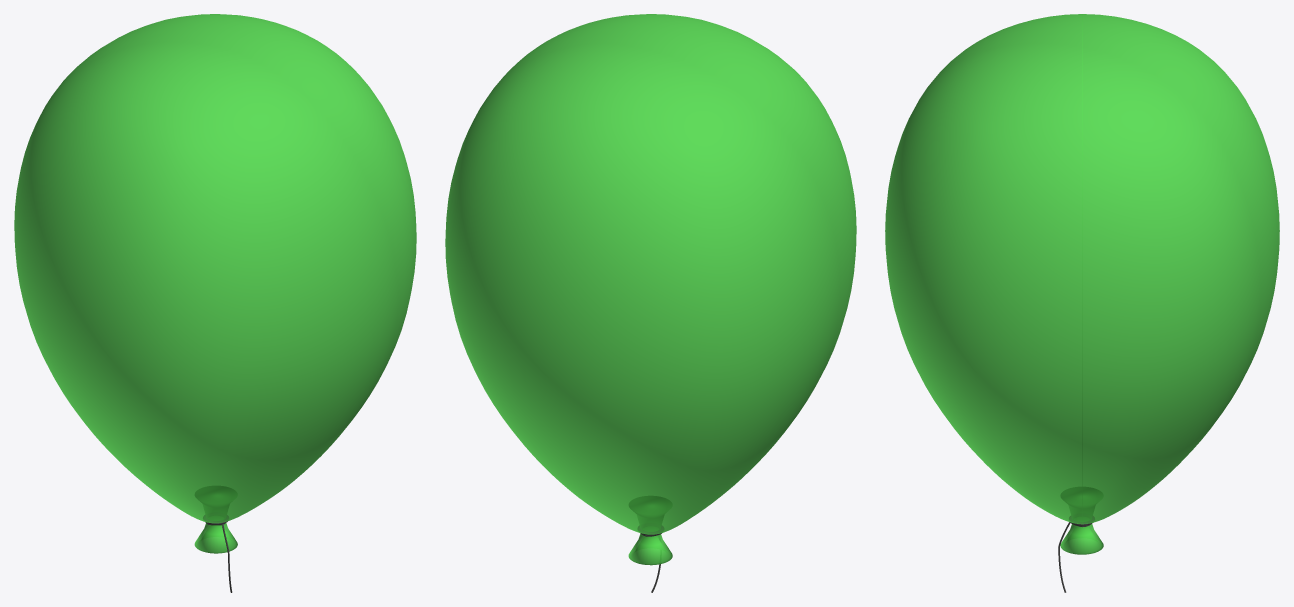
File: ballon_vert.glb
3 renders of one model, left to right at view 1: azimuth 30°, elevation 25°; view 2: azimuth 150°, elevation 25°; view 3: azimuth 270°, elevation 25°, orthographic. The views are drawn at different scales.
Parts seen in each view (by area): view 1: Cube.003, Cylinder.006; view 2: Cube.003, Cylinder.006; view 3: Cube.003, Cylinder.006.
Part boxes in pixels (<box>): Cube.003: <box>14,14,416,523</box>; Cylinder.006: <box>194,486,237,553</box>; Cube.003: <box>445,14,856,534</box>; Cylinder.006: <box>628,496,672,565</box>; Cube.003: <box>885,14,1279,524</box>; Cylinder.006: <box>1060,487,1103,554</box>.
Size of the model in its own units: 71.29 by 110 by 71.29.
